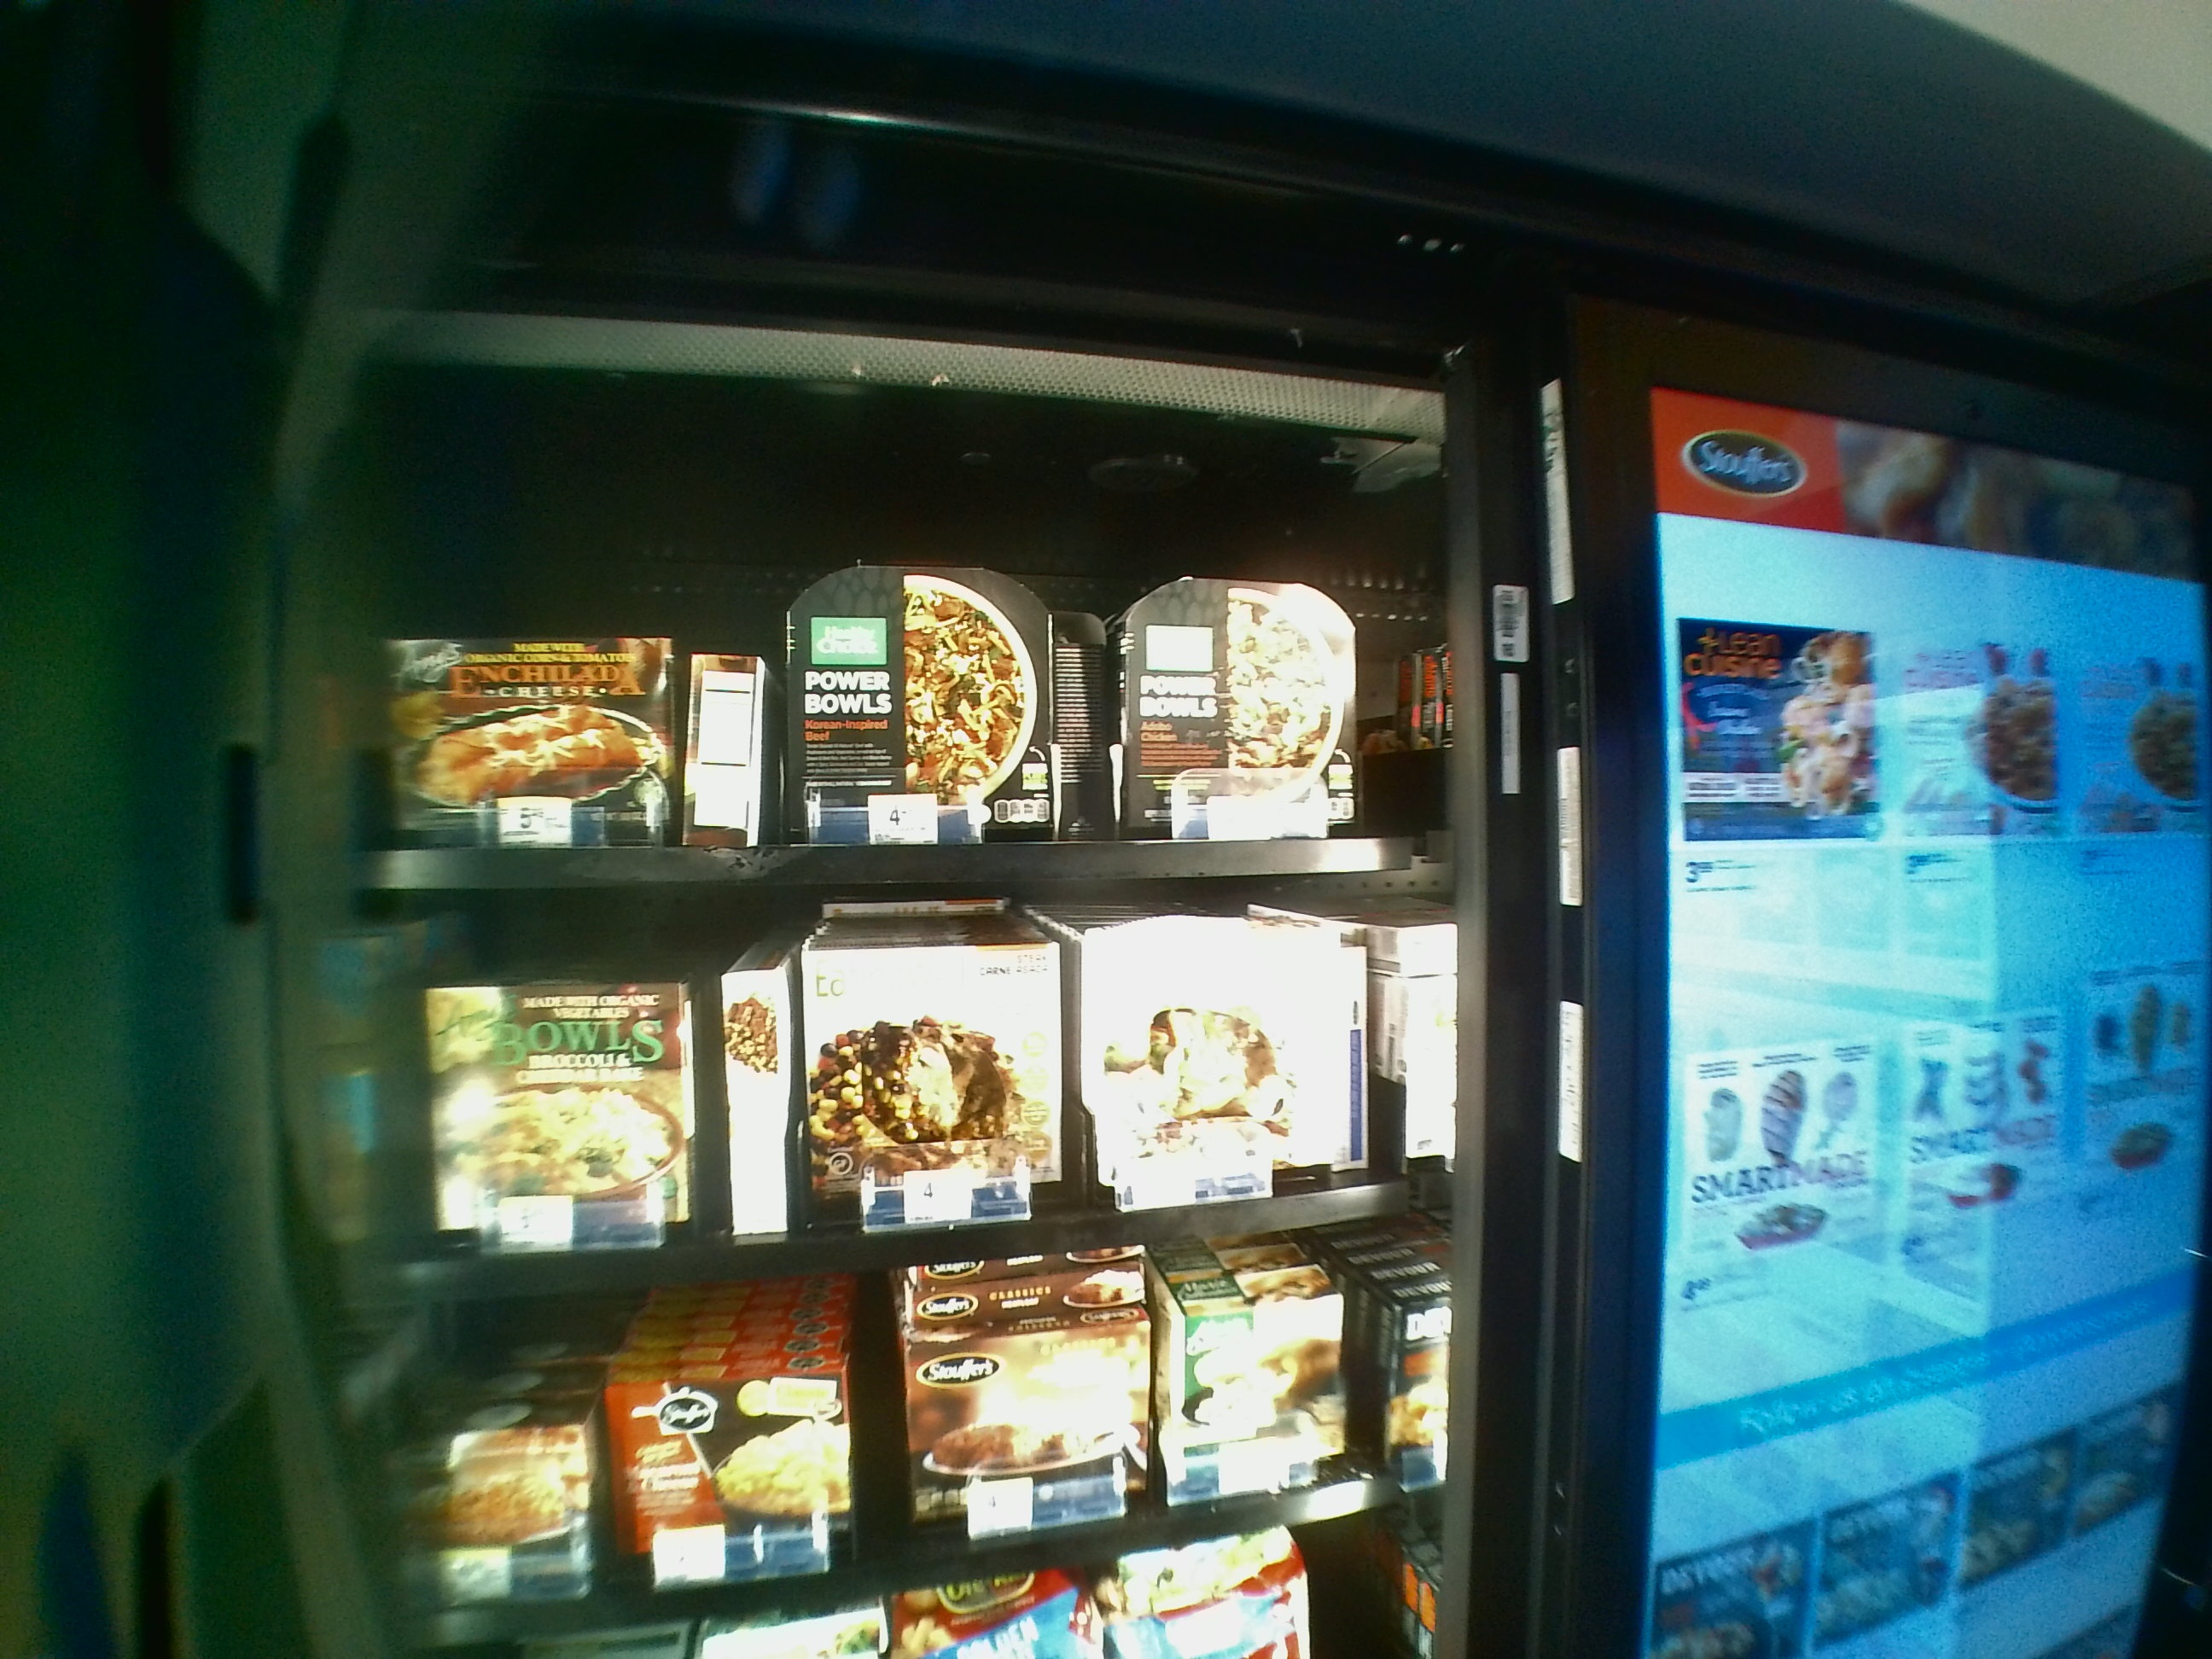shelf: (359, 373, 1451, 889), (359, 903, 1465, 1298)
